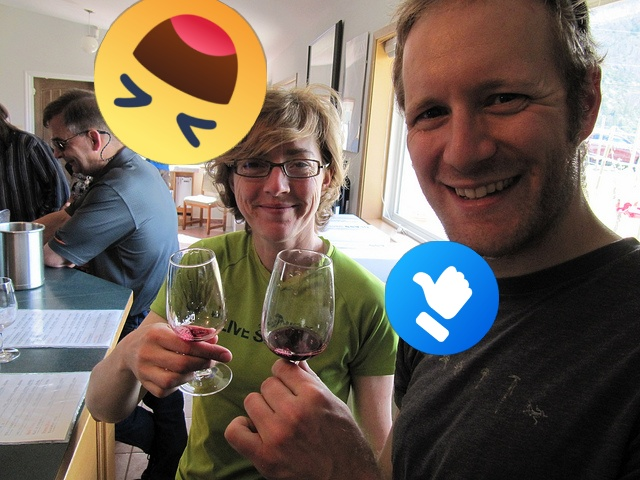haha: (94, 0, 267, 165)
like: (385, 241, 499, 355)
